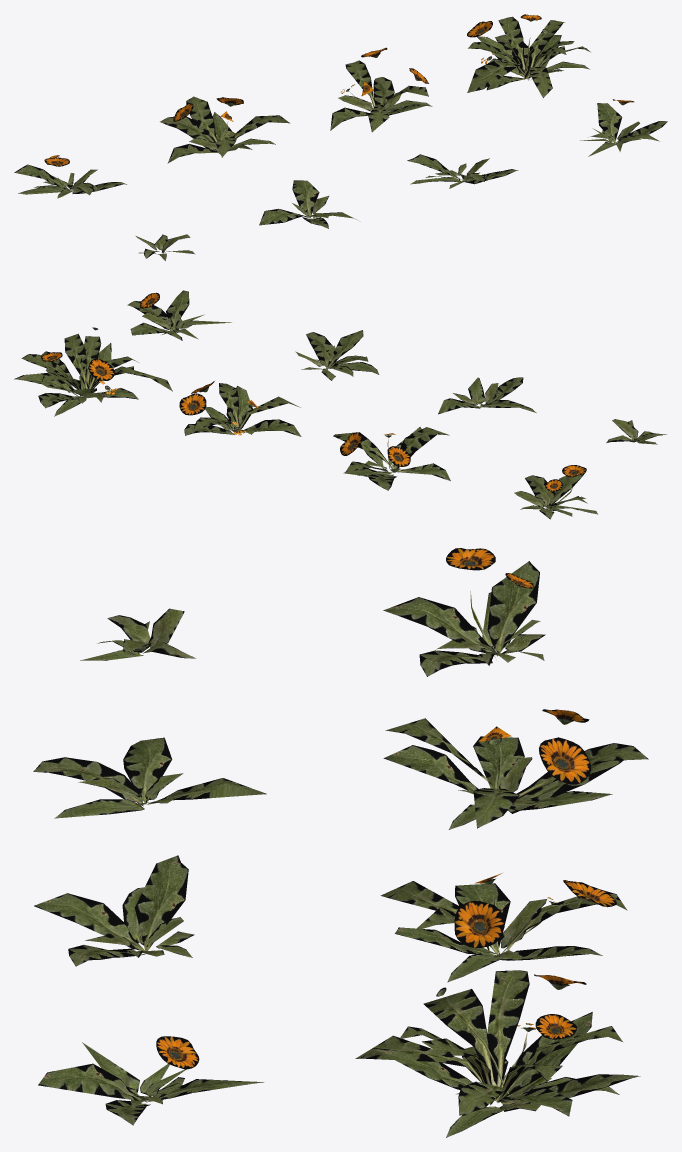
File: flower_gazania.gltf
The picture shows the model from 3 angles, top to bottom: view 1: azimuth 30°, elevation 25°; view 2: azimuth 150°, elevation 25°; view 3: azimuth 270°, elevation 25°; orthographic projection. The views are drawn at different scales.
Parts seen in each view (by area): view 1: flower_gazania_h_LOD0, flower_gazania_f_LOD0, flower_gazania_g_LOD0, flower_gazania_e_LOD0, flower_gazania_b_LOD0, flower_gazania_d_LOD0, flower_gazania_c_LOD0, flower_gazania_a_LOD0; view 2: flower_gazania_h_LOD0, flower_gazania_g_LOD0, flower_gazania_f_LOD0, flower_gazania_d_LOD0, flower_gazania_e_LOD0, flower_gazania_c_LOD0, flower_gazania_b_LOD0, flower_gazania_a_LOD0; view 3: flower_gazania_h_LOD0, flower_gazania_f_LOD0, flower_gazania_g_LOD0, flower_gazania_e_LOD0, flower_gazania_c_LOD0, flower_gazania_b_LOD0, flower_gazania_d_LOD0, flower_gazania_a_LOD0.
Boxes of the visible parts, box(x1,y1,x2,y2) form: flower_gazania_h_LOD0: box(467, 14, 590, 97); flower_gazania_f_LOD0: box(160, 96, 289, 163); flower_gazania_g_LOD0: box(330, 47, 432, 132); flower_gazania_e_LOD0: box(14, 155, 126, 198); flower_gazania_b_LOD0: box(259, 180, 356, 228); flower_gazania_d_LOD0: box(580, 99, 667, 156); flower_gazania_c_LOD0: box(407, 154, 518, 188); flower_gazania_a_LOD0: box(136, 234, 194, 260); flower_gazania_h_LOD0: box(14, 327, 172, 416); flower_gazania_g_LOD0: box(179, 381, 301, 436); flower_gazania_f_LOD0: box(333, 427, 450, 490); flower_gazania_d_LOD0: box(127, 290, 231, 340); flower_gazania_e_LOD0: box(514, 465, 597, 519); flower_gazania_c_LOD0: box(295, 330, 379, 380); flower_gazania_b_LOD0: box(438, 377, 536, 414); flower_gazania_a_LOD0: box(606, 419, 666, 444); flower_gazania_h_LOD0: box(355, 970, 640, 1137); flower_gazania_f_LOD0: box(383, 709, 648, 829); flower_gazania_g_LOD0: box(380, 873, 627, 982); flower_gazania_e_LOD0: box(383, 548, 545, 676); flower_gazania_c_LOD0: box(34, 855, 194, 966); flower_gazania_b_LOD0: box(33, 737, 266, 818); flower_gazania_d_LOD0: box(38, 1036, 263, 1125); flower_gazania_a_LOD0: box(80, 608, 195, 660).
Bounding box in the file's own units: 1.48 × 0.1545 × 0.701.
Materials: 1 (1 with a texture image).
